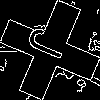J: (25, 25, 77, 66)
